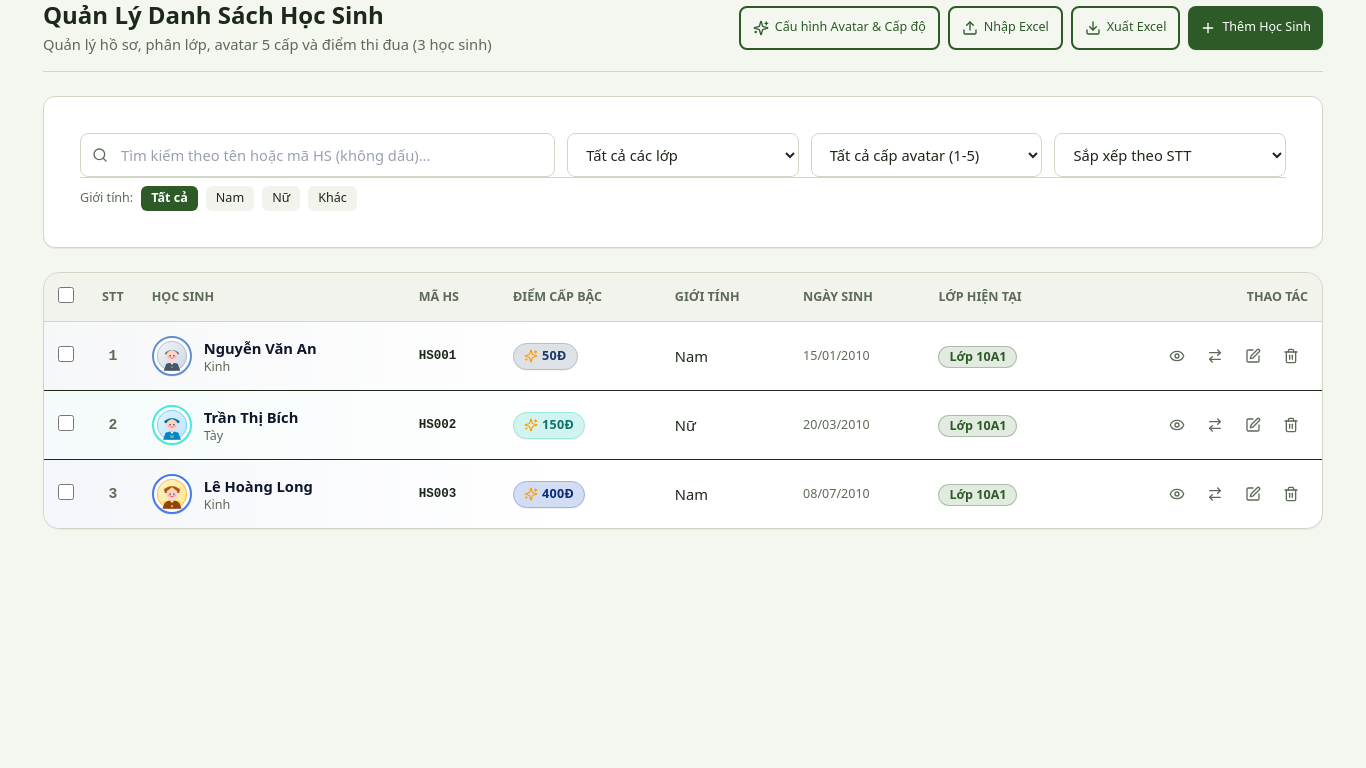
Scenario: StudentsPage UI & 5-Level Avatar Integration Tests (FEAT-AVATAR-002) › 5. Opens Add Student Modal and creates new student without per-student theme selector
Expected: the row with test id "student-row-st-1" is shown, [44,322,1322,391]
Click the button "Thêm Học Sinh" at (1256, 28), box [1188,6,1323,50]
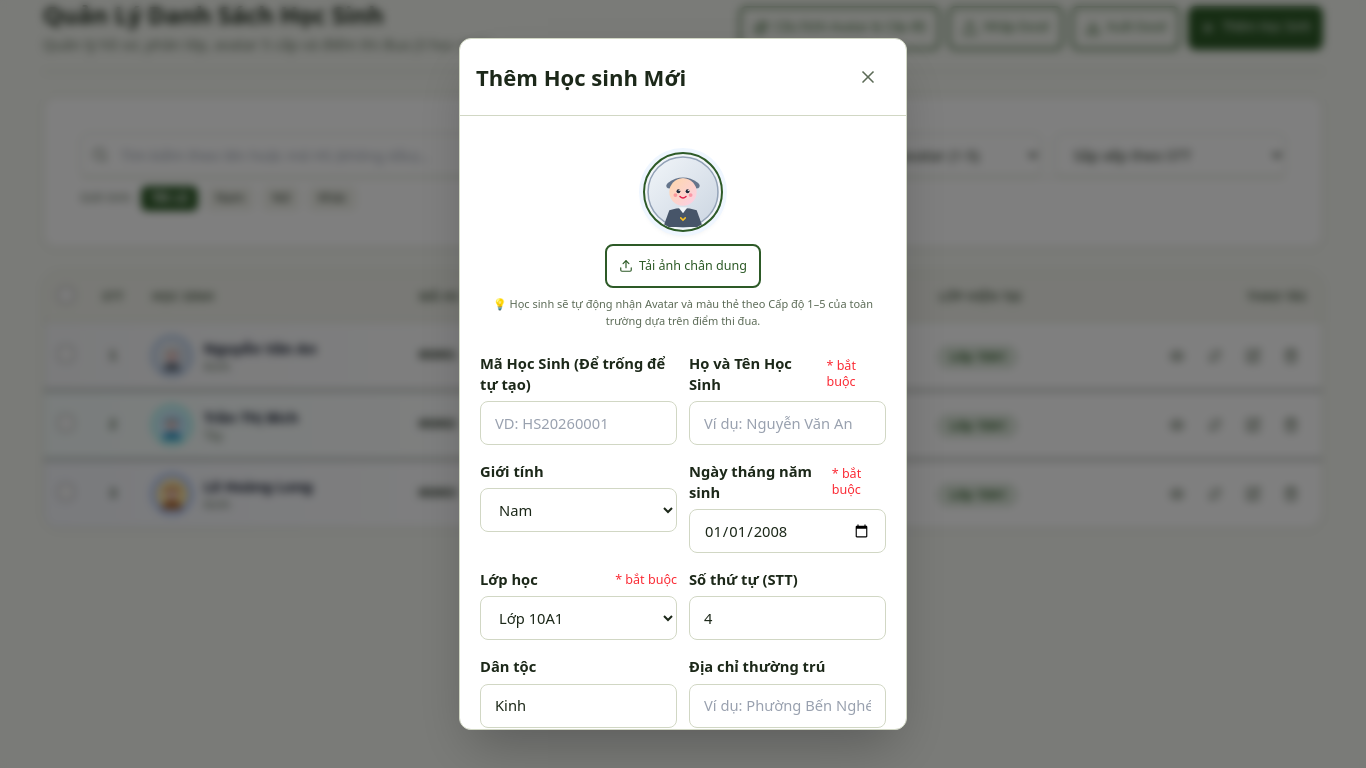
Result: the heading "Thêm Học sinh Mới" is shown at [476,60,686,95]
Type "Hoàng Minh Quân" into the field with placeholder "Ví dụ: Nguyễn Văn An" at (788, 423), box [689,401,886,445]
(page scrolled)
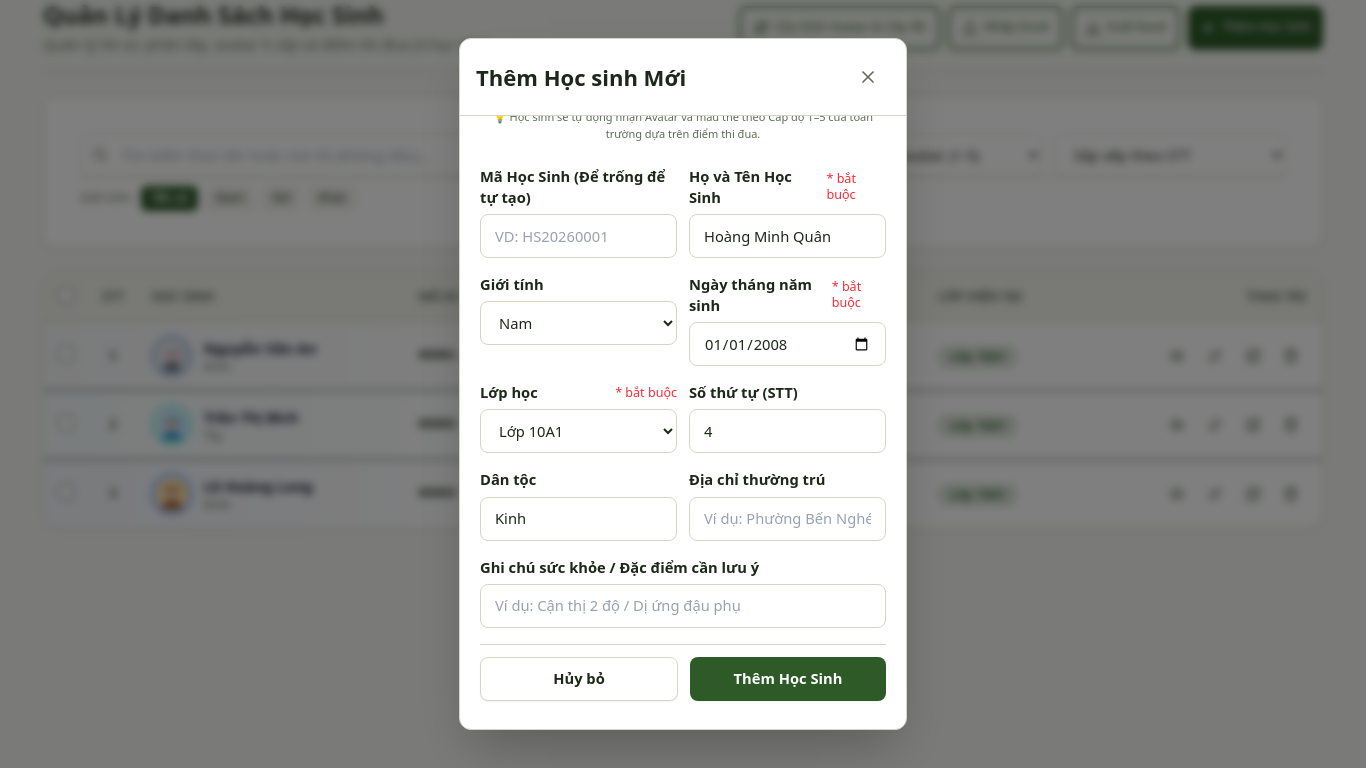
Click the button with test id "submit-student-btn" at (788, 678), box [690,656,886,700]
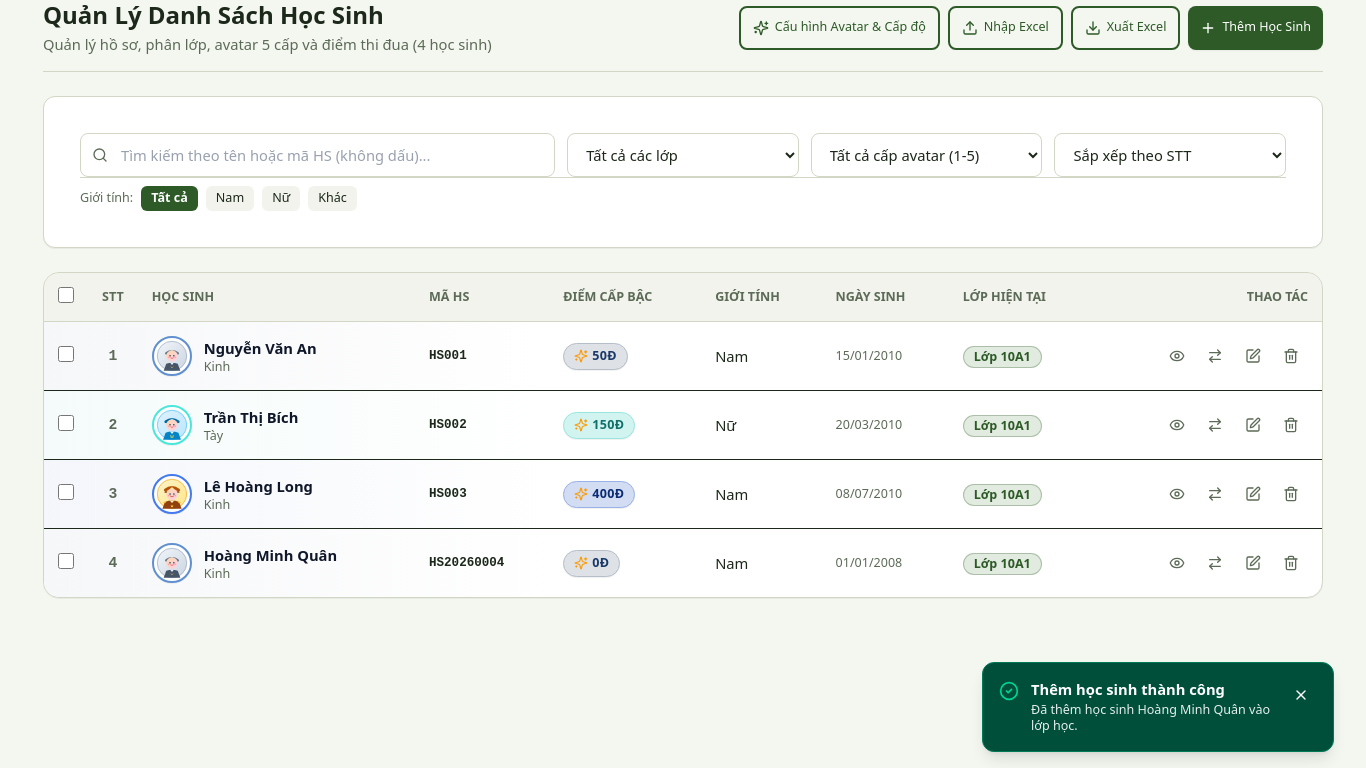
Result: the text "Hoàng Minh Quân" is shown at [204,545,337,566]
Result: the text "0đ" is shown at [563,550,620,577]
